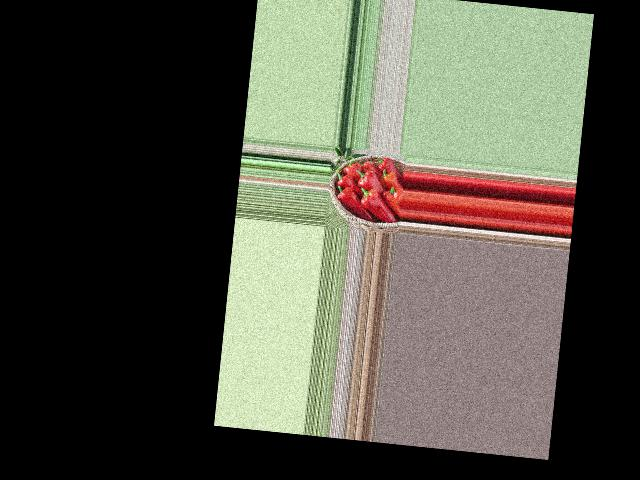bell_pepper: (333, 171, 356, 190)
